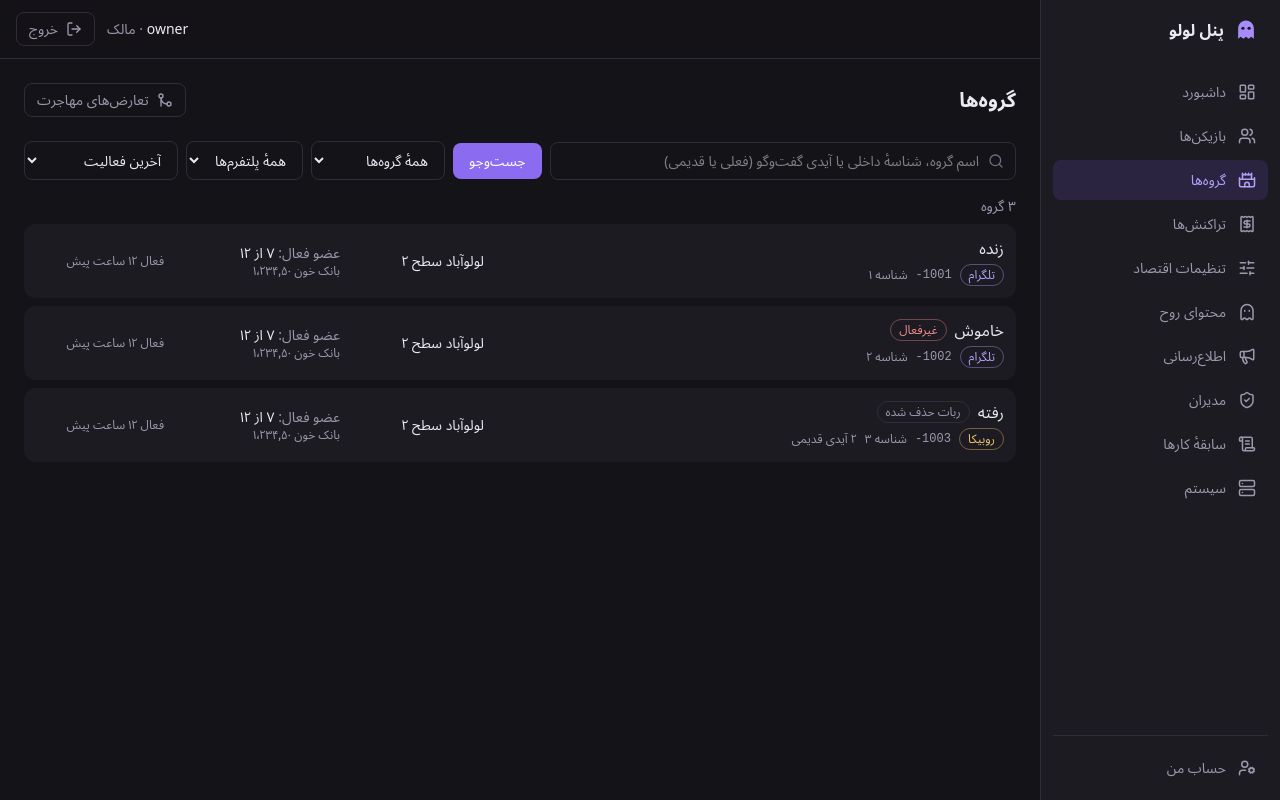
groups list › shows state badges, platform, old ids and the conflicts link
Expected: the text "زنده" is shown, [979,236,1004,260]
Expected: the text "غیرفعال" is shown, [890,319,947,341]
Select "غیرفعال‌شده" in the dropdown named "وضعیت" at (378,160), box [311,141,445,180]
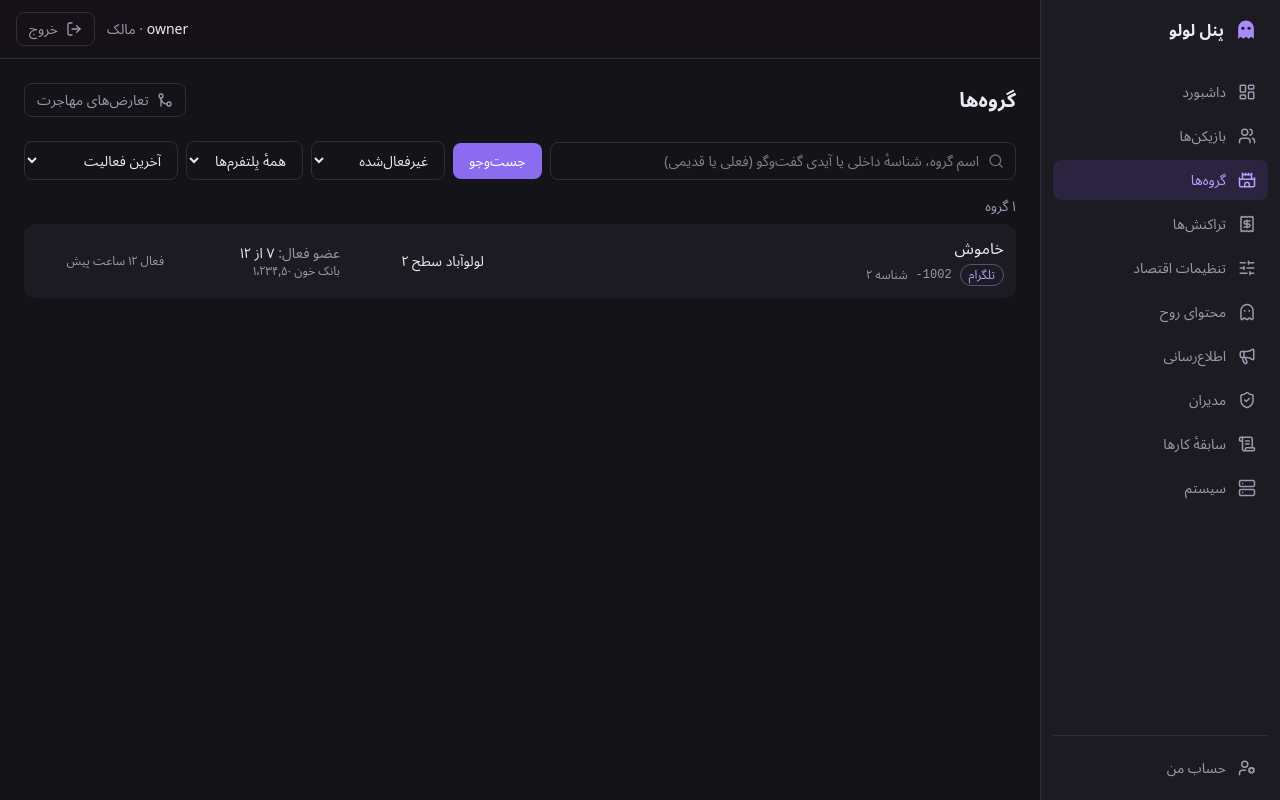
Now the text "۱ گروه" is shown, box [985,196,1016,215]
